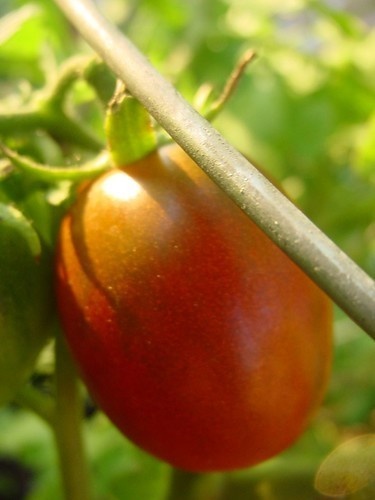tomato: (58, 144, 328, 471)
